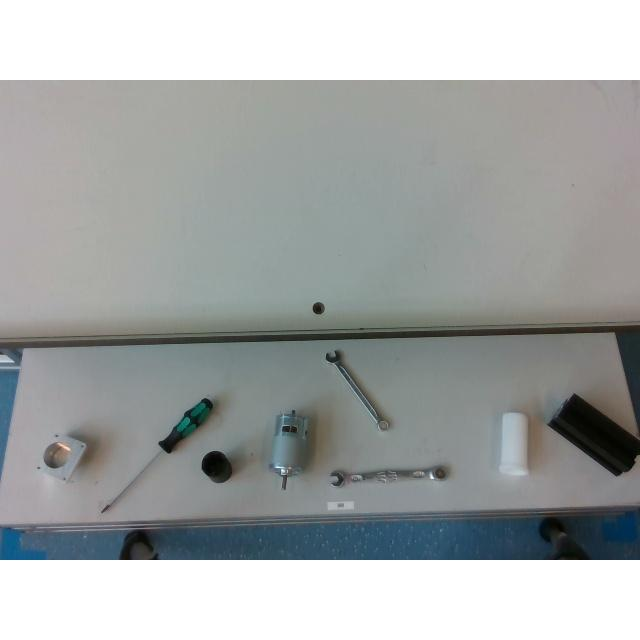Motor2: (269, 410, 309, 490)
S40_40_B: (548, 394, 640, 476)
Screwdriver: (98, 397, 214, 513)
Spacer: (499, 412, 528, 476)
Wrench: (328, 465, 448, 487)
